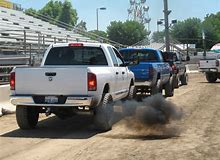smoke: (99, 92, 187, 135)
